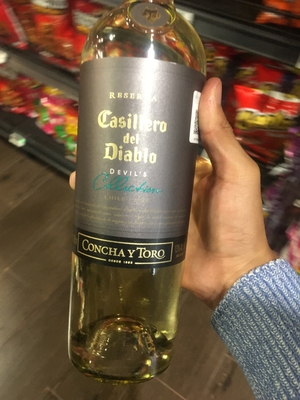casillero del diablo devils collection verde: (71, 8, 206, 380)
